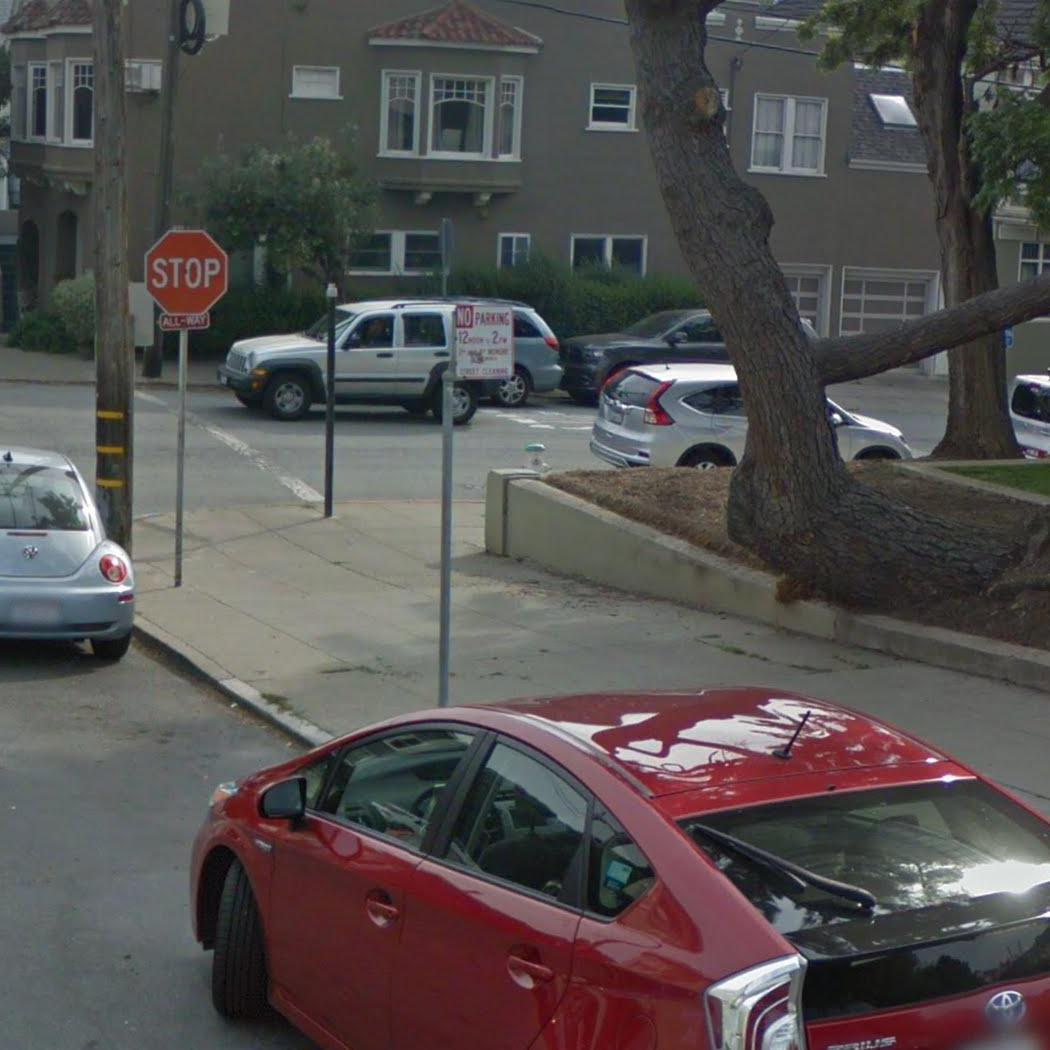No Parking: (454, 301, 515, 380)
